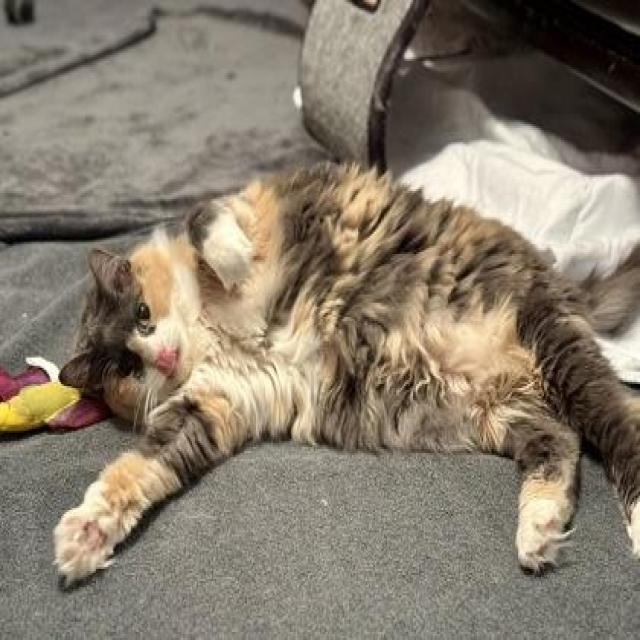calico_cat: (52, 244, 213, 431)
